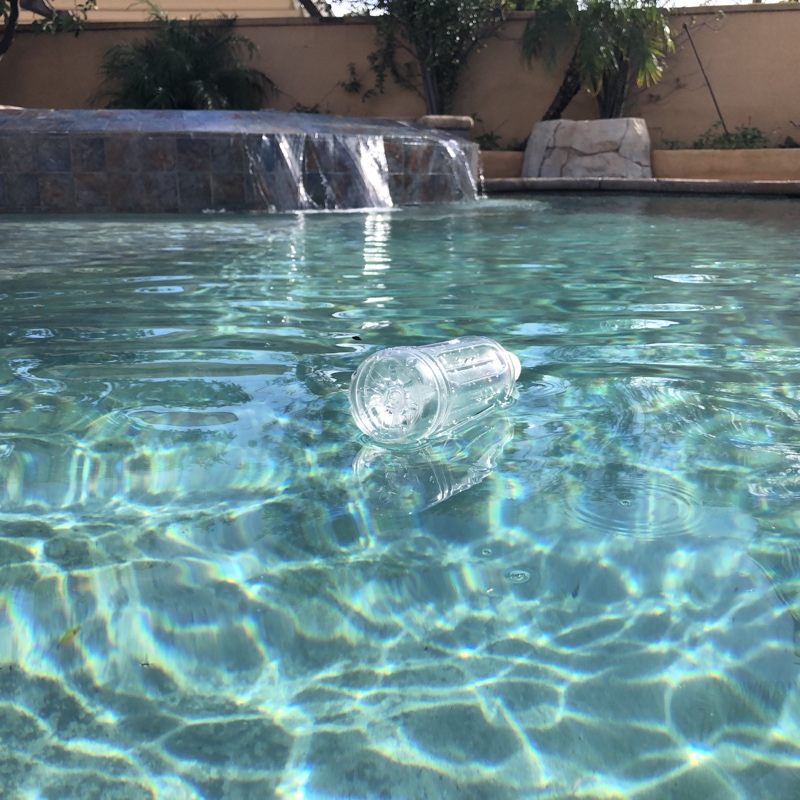Plastic Bottle: (344, 332, 525, 447)
